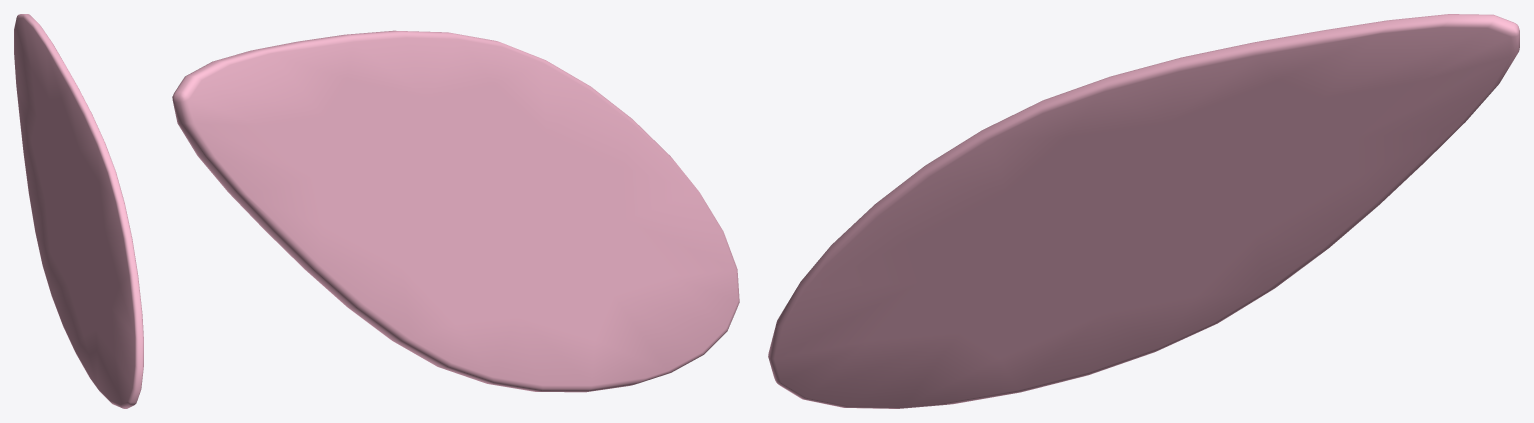
File: pinkFlower_26.glb
3 renders of one model, left to right at view 1: azimuth 30°, elevation 25°; view 2: azimuth 150°, elevation 25°; view 3: azimuth 270°, elevation 25°, orthographic. The views are drawn at different scales.
Visible parts, largest first — view 1: Petal_04_Elongated.103; view 2: Petal_04_Elongated.103; view 3: Petal_04_Elongated.103.
Part boxes in pixels (left/top/right/bottom): Petal_04_Elongated.103: left=14, top=14, right=143, bottom=408; Petal_04_Elongated.103: left=172, top=30, right=739, bottom=392; Petal_04_Elongated.103: left=768, top=14, right=1519, bottom=408.
Size of the model in its own units: 1.2 by 3.09 by 4.52.
